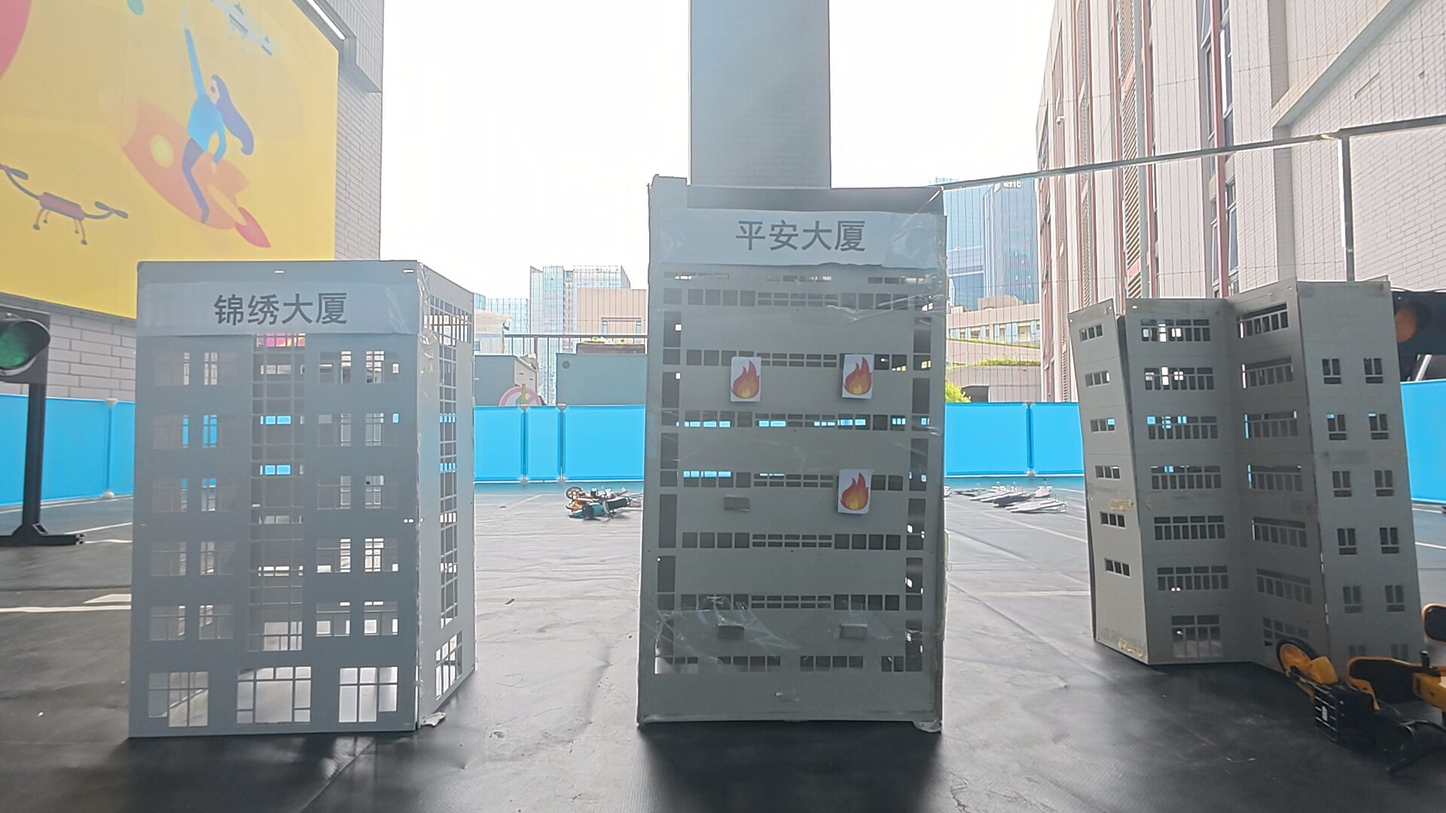fire: (836, 469, 873, 515), (729, 355, 763, 402), (841, 354, 876, 399)
